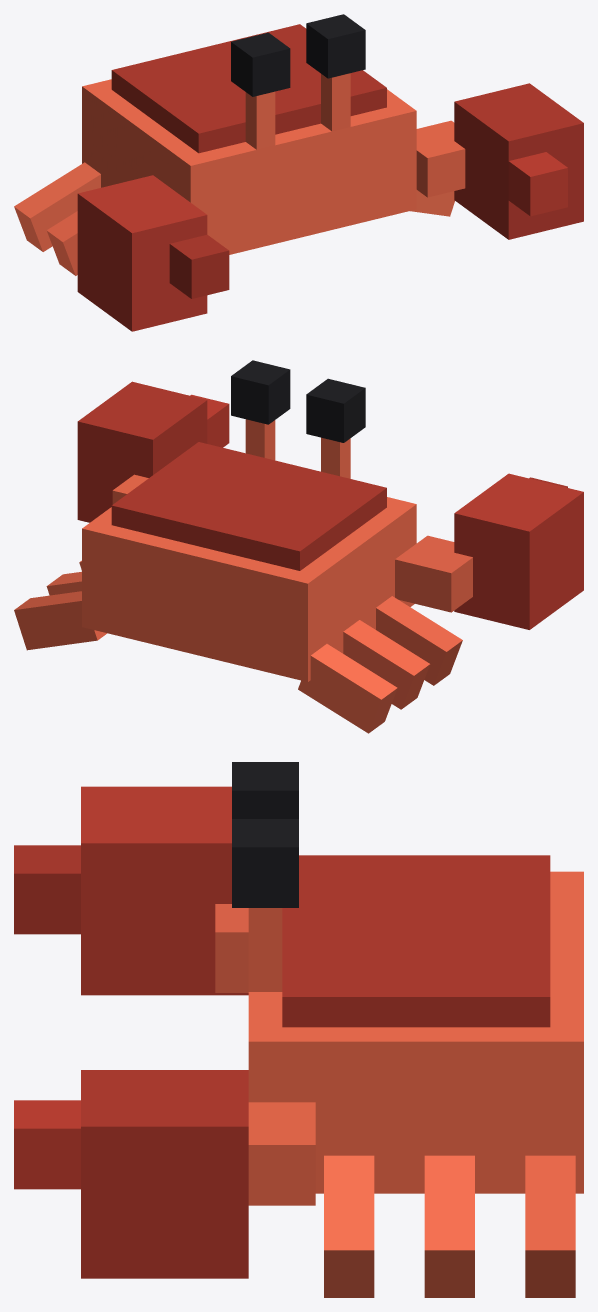
Rendered from reef_crab_blockbench.web-pbr.glb.
3 views of the same model, one above another, from view 1: azimuth 30°, elevation 25°; view 2: azimuth 150°, elevation 25°; view 3: azimuth 270°, elevation 25° (orthographic). The views are drawn at different scales.
Parts seen in each view (by area): view 1: body, claw_-1, shell_top, claw_1, leg_-1_2, pincer_-1, arm_1, eye_1, eye_-1, pincer_1, eyestalk_-1, eyestalk_1 (+2 smaller); view 2: body, shell_top, claw_-1, claw_1, leg_-1_2, arm_-1, leg_-1_1, leg_-1_0, leg_1_2, eye_-1, eye_1, eyestalk_1 (+3 smaller); view 3: body, shell_top, claw_1, claw_-1, leg_1_2, leg_1_0, leg_1_1, arm_1, pincer_1, pincer_-1, eye_1, eye_-1 (+2 smaller).
Part boxes in pixels (box(x1,y1,x2,y2)): body: box(82, 79, 416, 254); claw_-1: box(77, 175, 207, 331); shell_top: box(111, 24, 386, 153); claw_1: box(454, 83, 583, 239); leg_-1_2: box(14, 162, 100, 251); pincer_-1: box(169, 234, 229, 298); arm_1: box(416, 120, 465, 197); eye_1: box(306, 14, 365, 78); eye_-1: box(231, 32, 290, 96); pincer_1: box(508, 152, 567, 216); eyestalk_-1: box(245, 91, 275, 149); eyestalk_1: box(321, 73, 350, 131); body: box(82, 497, 416, 681); shell_top: box(111, 442, 386, 570); claw_-1: box(454, 473, 583, 629); claw_1: box(77, 381, 207, 522); leg_-1_2: box(298, 644, 397, 733); arm_-1: box(395, 535, 472, 612); leg_-1_1: box(343, 620, 430, 709); leg_-1_0: box(376, 596, 462, 685); leg_1_2: box(14, 591, 106, 650); eye_-1: box(306, 378, 365, 442); eye_1: box(231, 360, 290, 424); eyestalk_1: box(245, 419, 275, 460); body: box(248, 871, 583, 1193); shell_top: box(282, 855, 550, 1027); claw_1: box(81, 1070, 248, 1278); claw_-1: box(81, 786, 248, 995); leg_1_2: box(525, 1155, 575, 1297); leg_1_0: box(324, 1155, 374, 1297); leg_1_1: box(424, 1155, 474, 1297); arm_1: box(248, 1102, 315, 1205); pincer_1: box(14, 1100, 80, 1189); pincer_-1: box(14, 845, 80, 934); eye_1: box(232, 819, 298, 907); eye_-1: box(232, 762, 298, 818).
Bounding box in the file's own units: 1.5 × 0.7498 × 1.06.
Materials: 1 (1 with a texture image).
